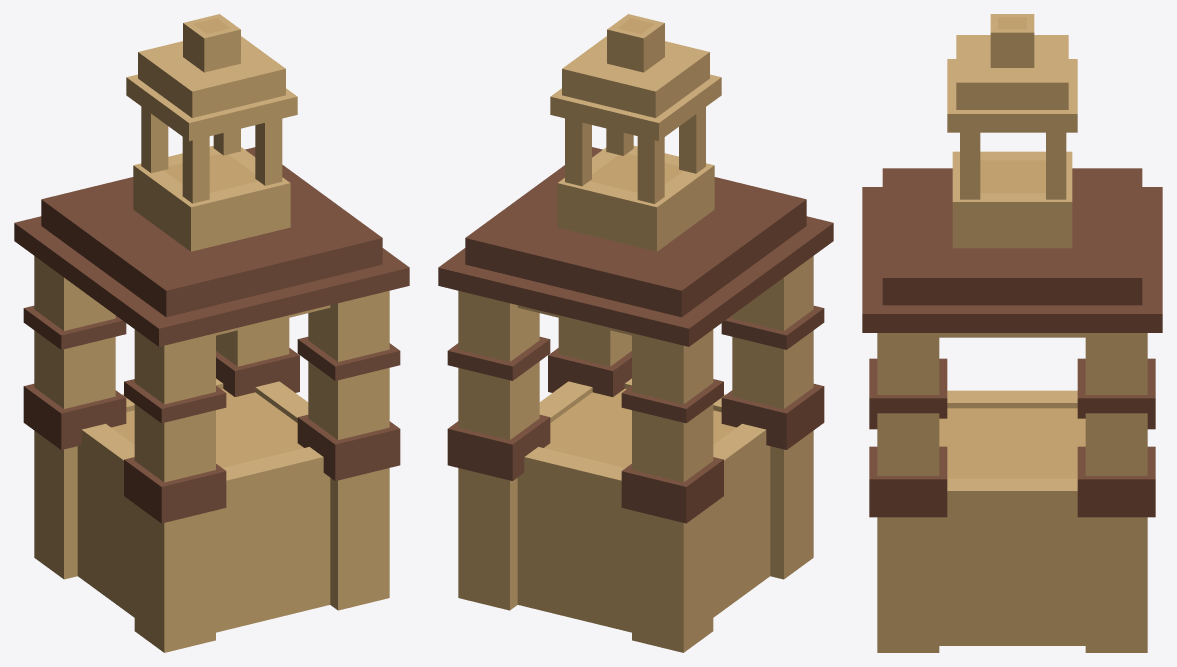
Rendered from ST_Env_Structure_06.fbx.
3 renders of one model, left to right at view 1: azimuth 30°, elevation 25°; view 2: azimuth 150°, elevation 25°; view 3: azimuth 270°, elevation 25°, orthographic. The views are drawn at different scales.
Parts seen in each view (by area): view 1: ST_Env_Structure_06; view 2: ST_Env_Structure_06; view 3: ST_Env_Structure_06.
Boxes of the visible parts, <box> form: ST_Env_Structure_06: <box>14,14,409,652</box>; ST_Env_Structure_06: <box>438,14,833,652</box>; ST_Env_Structure_06: <box>862,14,1162,652</box>.
Bounding box in the file's own units: 7.08 × 14.88 × 7.08.
